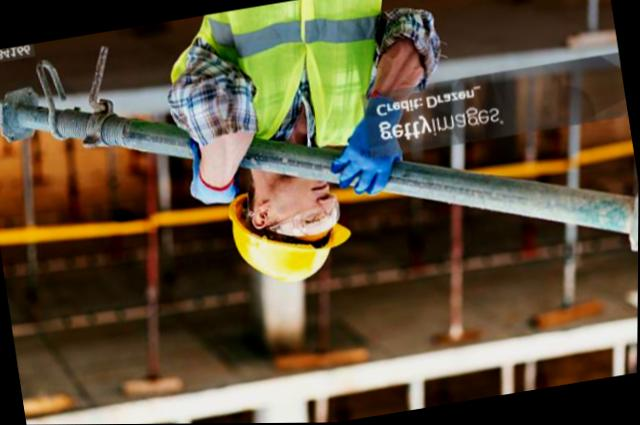helmet: (215, 178, 359, 292)
vest: (170, 0, 407, 165)
